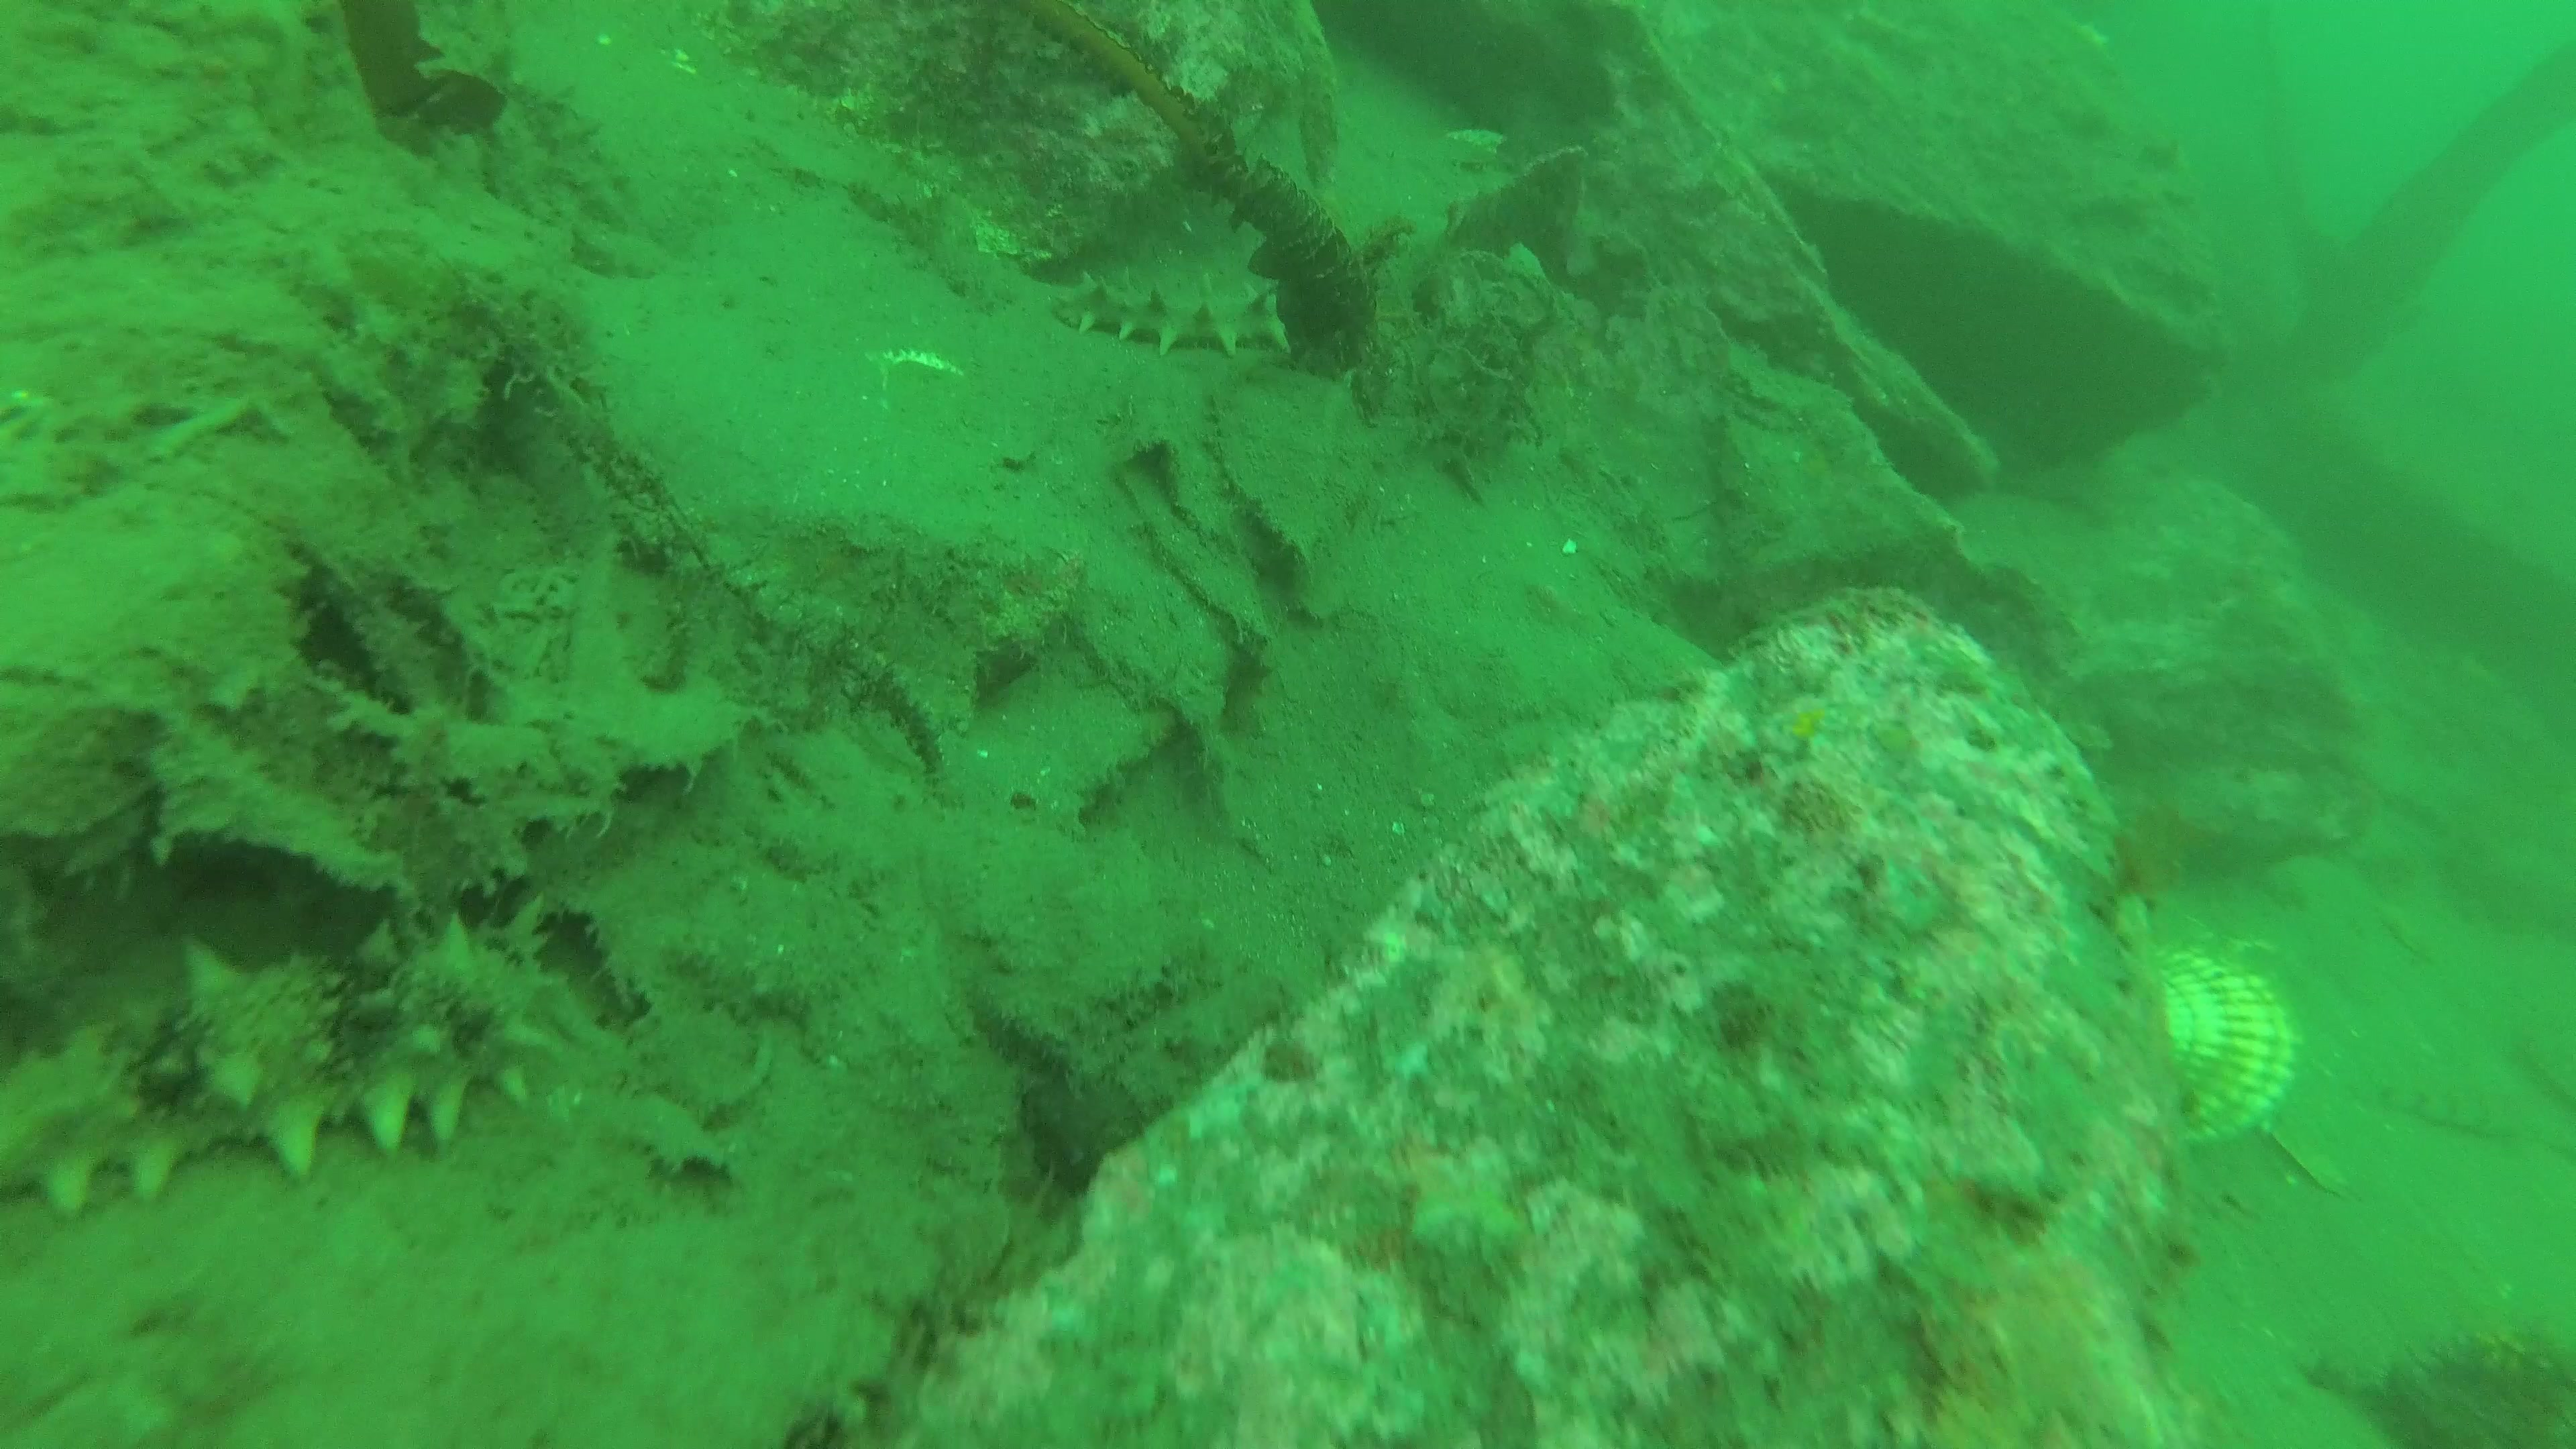holothurian: (0, 911, 545, 1221), (1054, 269, 1293, 359)
scallop: (2125, 947, 2296, 1146)
